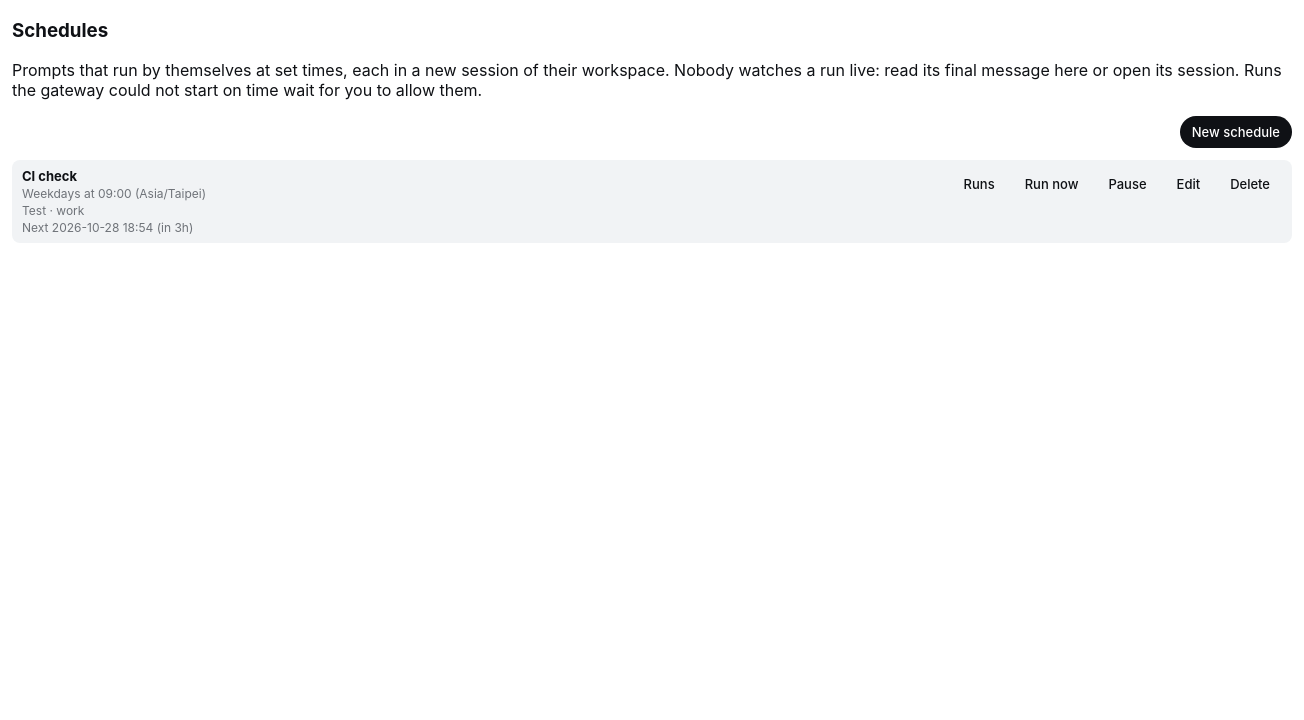
ScheduleSettings › shows why the gateway refused a schedule and keeps the form
The image size is (1304, 720).
Click the button "New schedule": (1236, 132) [1180,116,1292,148]
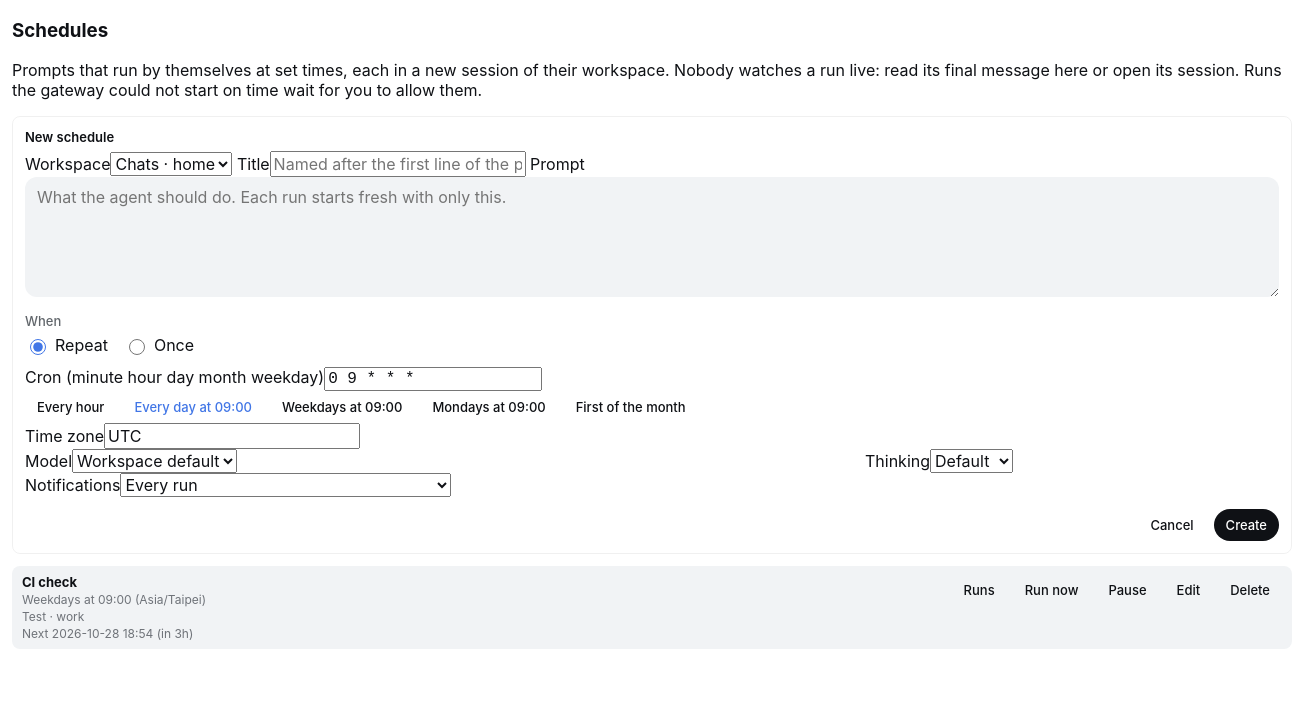
Replace the text in the text box labelled "Prompt" with "x": (652, 237) [25,177,1279,297]
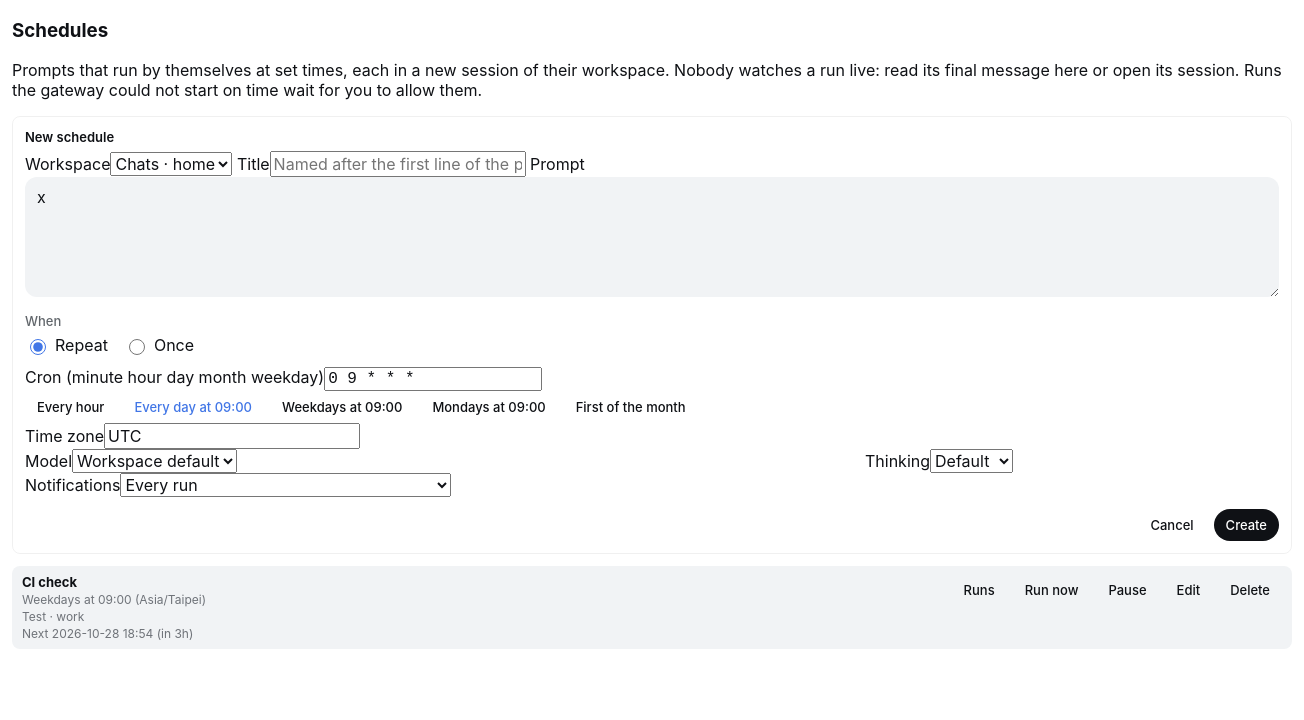
Click the radio button labelled "Once": (137, 347) [129,339,145,355]
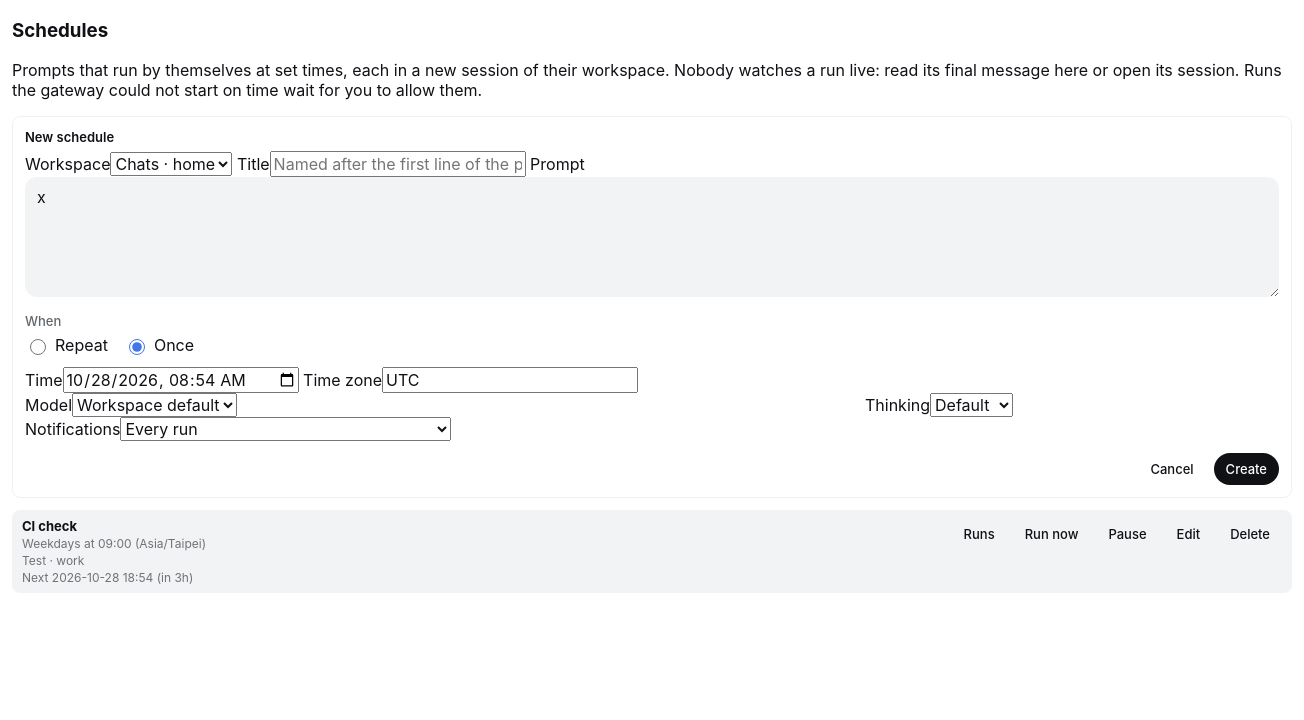
Replace the text in the field labelled "Time" with "2020-01-01T09:00": (180, 380) [62,367,298,393]
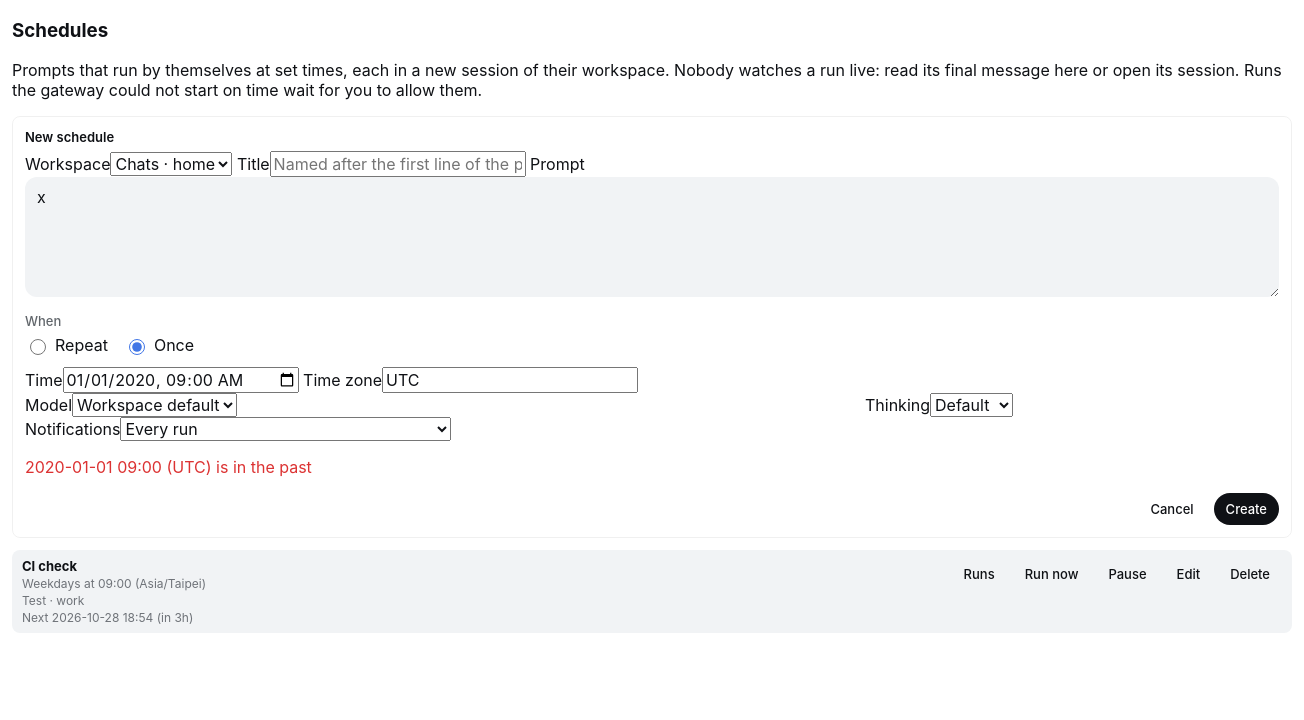
Check: the form is shown, box [12,116,1292,538]
Check: the message "2020-01-01 09:00 (UTC) is in the past" is shown, box [25,457,312,477]
